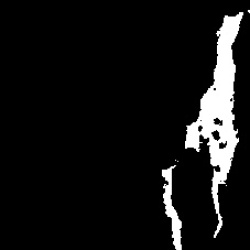crack: (185, 12, 244, 239), (162, 165, 182, 247)
